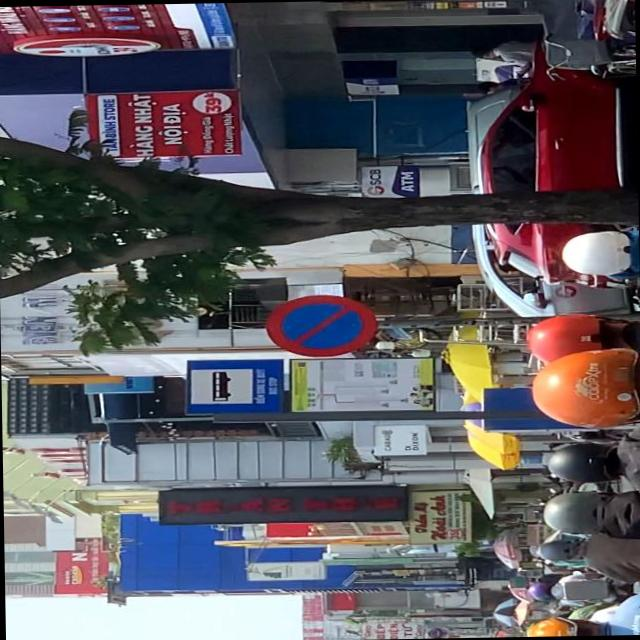P-131a: (266, 292, 376, 358)
